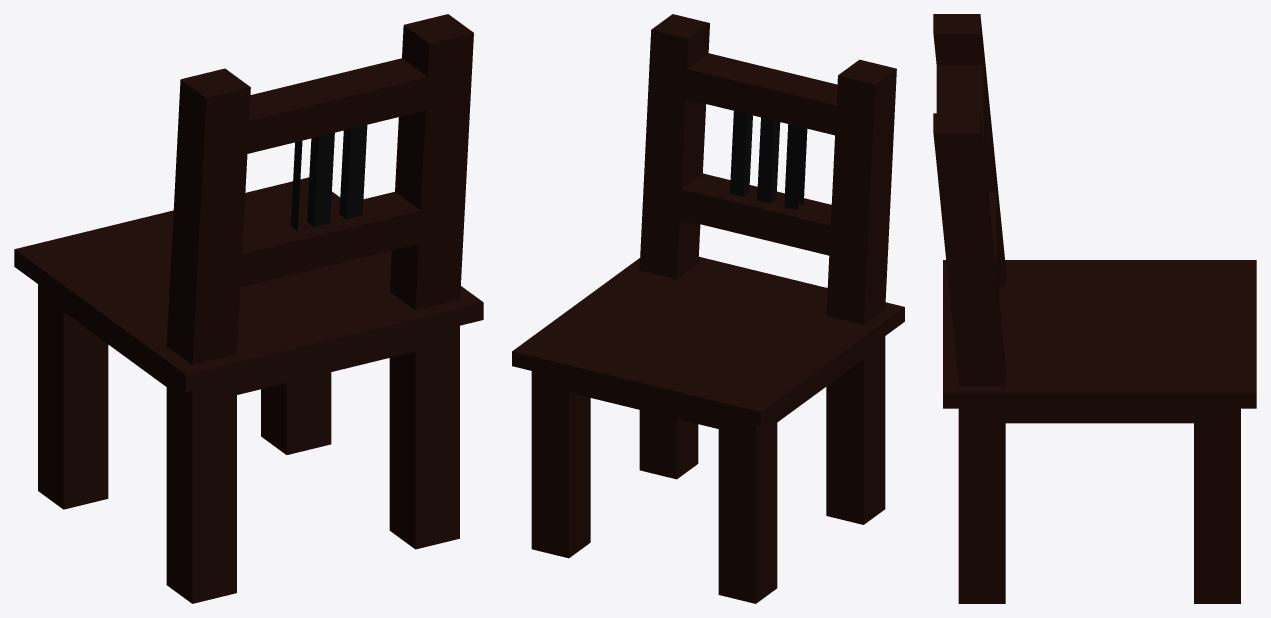
Rendered from chair.fbx.
3 views of the same model, side by side, from view 1: azimuth 30°, elevation 25°; view 2: azimuth 150°, elevation 25°; view 3: azimuth 270°, elevation 25° (orthographic). The views are drawn at different scales.
Parts seen in each view (by area): view 1: Cube; view 2: Cube; view 3: Cube.
Boxes of the visible parts, x1,y1,x2,y2 form: Cube: (14,14,483,603); Cube: (512,14,904,603); Cube: (933,14,1256,603).
Size of the model in its own units: 614 by 595 by 987.
